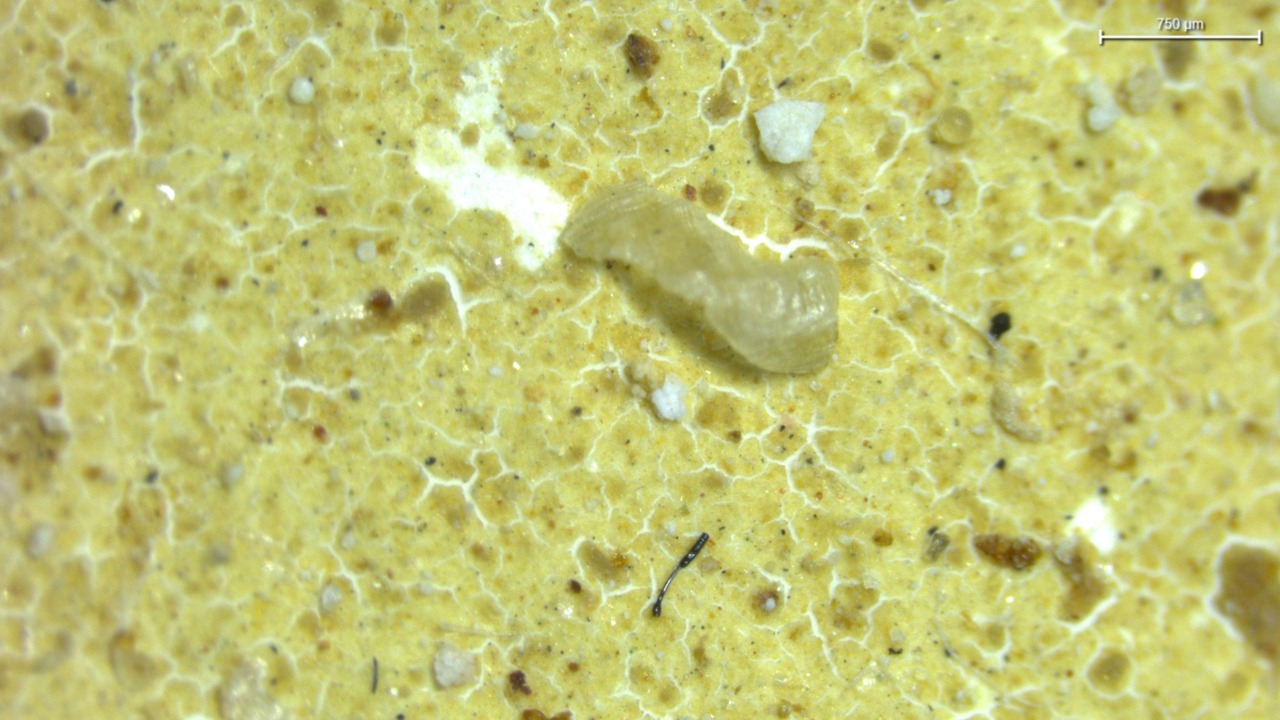microplastic_fragment: (754, 100, 824, 162), (650, 375, 687, 420)
